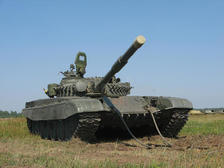t72: (21, 35, 191, 144)
